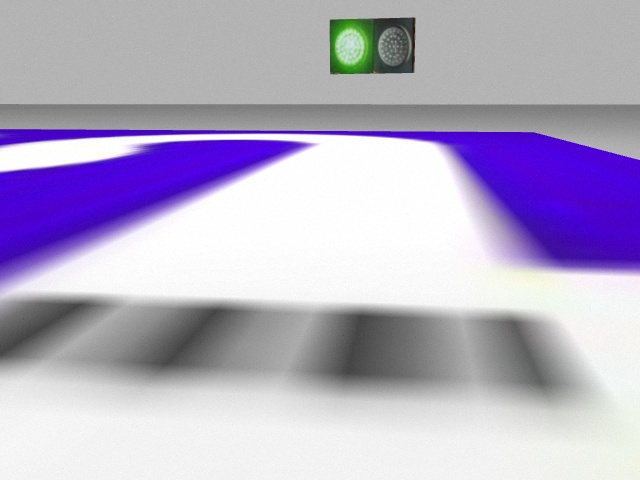green: (329, 21, 375, 74)
